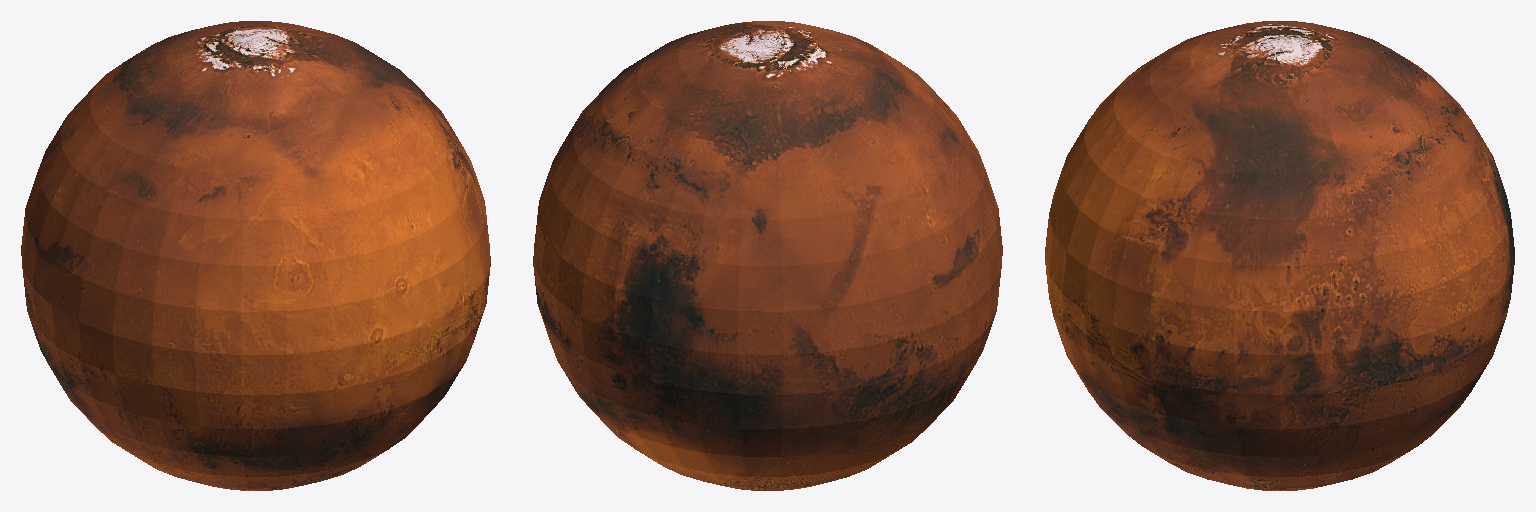
The picture shows the model from 3 angles: view 1: azimuth 30°, elevation 25°; view 2: azimuth 150°, elevation 25°; view 3: azimuth 270°, elevation 25°; orthographic projection.
Parts seen in each view (by area): view 1: Sphere; view 2: Sphere; view 3: Sphere.
Boxes of the visible parts, box(x1,y1,x2,y2) form: Sphere: box(21, 21, 490, 490); Sphere: box(533, 21, 1002, 490); Sphere: box(1045, 21, 1514, 490).
Size of the model in its own units: 26.6 by 26.6 by 26.6.
Materials: 1 (1 with a texture image).